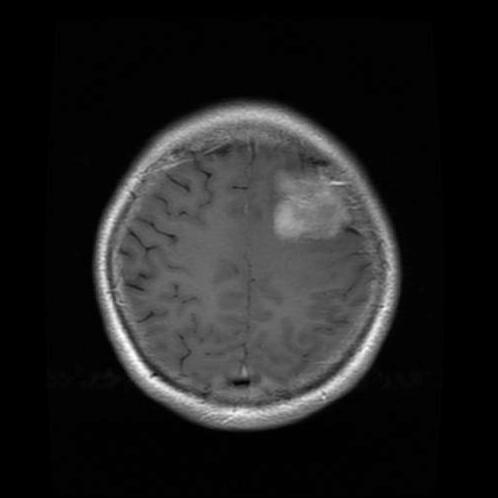Tumour-Meningioma: (263, 151, 364, 271)
